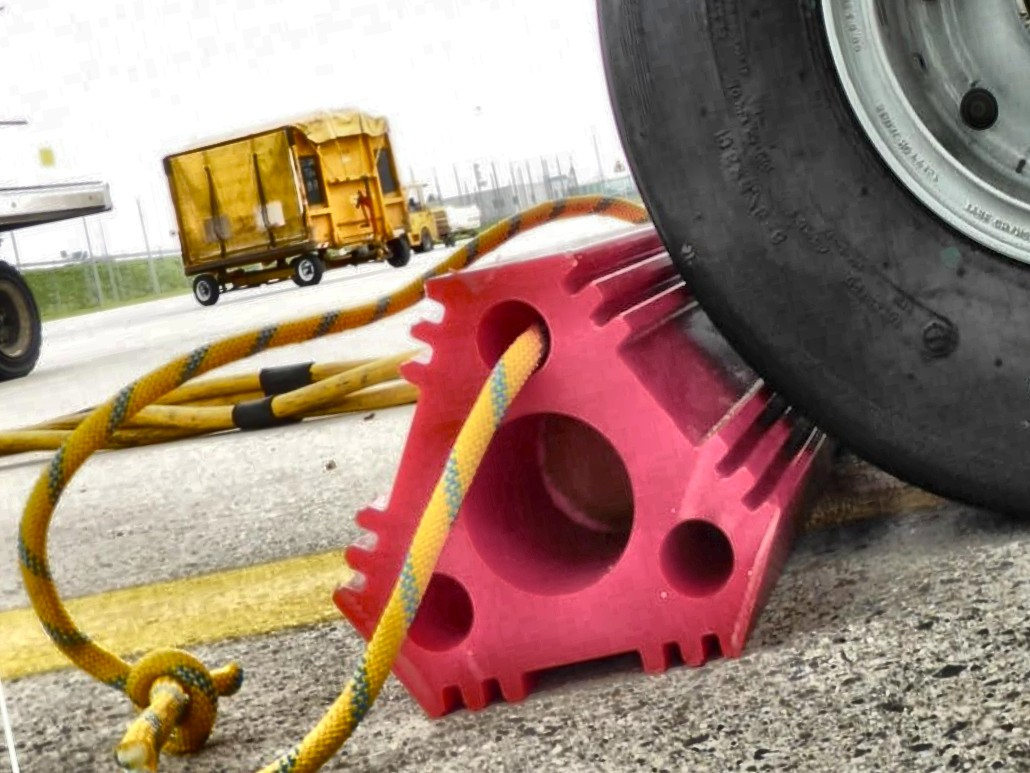chock: (272, 195, 877, 738)
wheel: (579, 0, 1030, 608), (0, 257, 50, 389), (290, 250, 325, 287), (192, 272, 223, 308), (382, 233, 412, 267), (413, 223, 439, 255)
